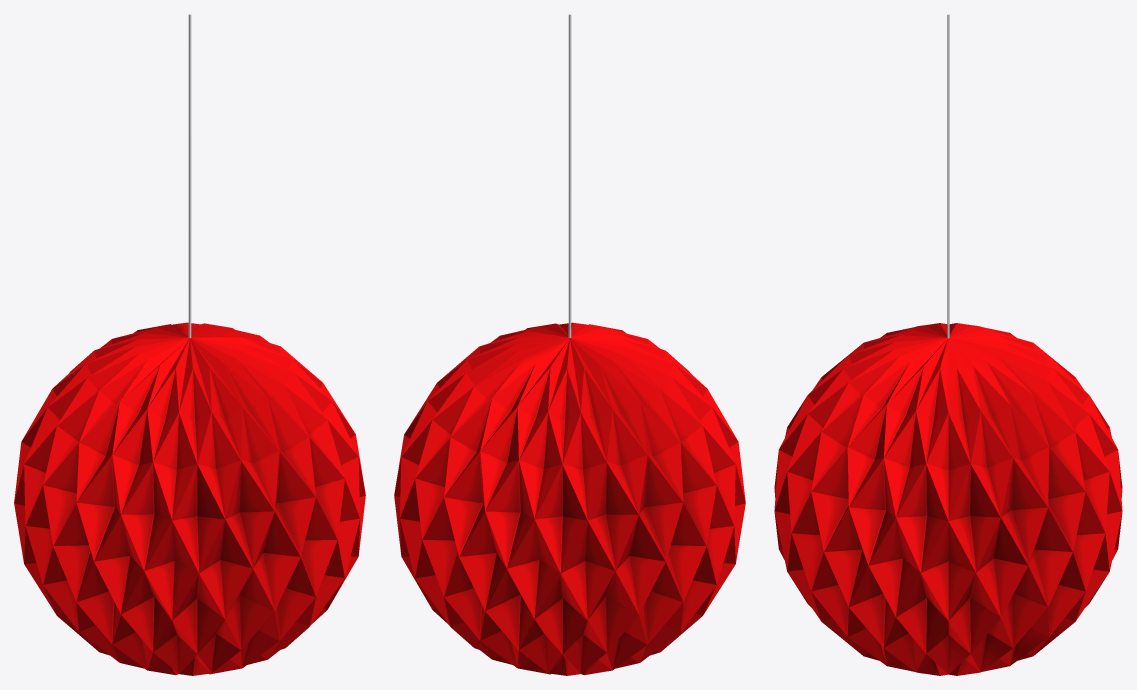
File: PartyHangings01D_5.FBX
The picture shows the model from 3 angles, left to right: view 1: azimuth 30°, elevation 25°; view 2: azimuth 150°, elevation 25°; view 3: azimuth 270°, elevation 25°; orthographic projection.
Parts seen in each view (by area): view 1: PartyHangings01D_5; view 2: PartyHangings01D_5; view 3: PartyHangings01D_5.
Part boxes in pixels (bbox=[...]): PartyHangings01D_5: bbox=[14, 14, 365, 675]; PartyHangings01D_5: bbox=[394, 14, 745, 675]; PartyHangings01D_5: bbox=[774, 14, 1122, 675].
Size of what is drawn, in the model's own units: 0.3614 by 0.7408 by 0.3614.
